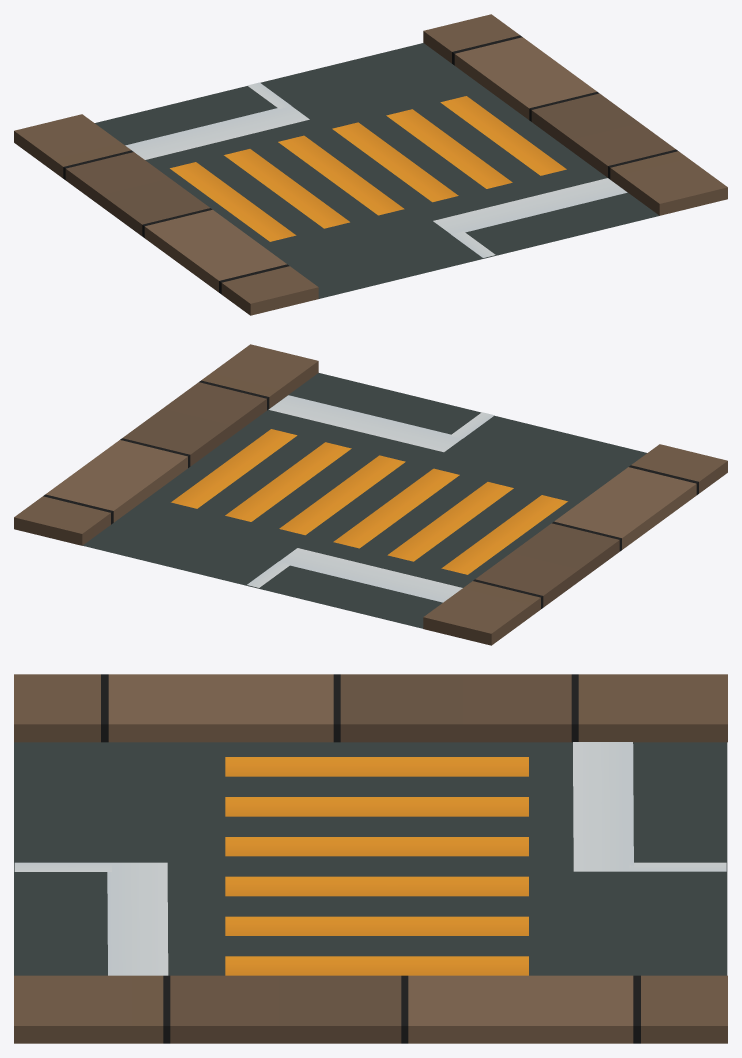
The model's file is Road_1_105.fbx.
3 renders of one model, top to bottom at view 1: azimuth 30°, elevation 25°; view 2: azimuth 150°, elevation 25°; view 3: azimuth 270°, elevation 25°, orthographic. The views are drawn at different scales.
Visible parts, largest first — view 1: Road_1_105; view 2: Road_1_105; view 3: Road_1_105.
Part boxes in pixels (x1=…): Road_1_105: x1=14, y1=14, x2=727, y2=315; Road_1_105: x1=14, y1=344, x2=727, y2=645; Road_1_105: x1=14, y1=674, x2=727, y2=1043.
Size of the model in its own units: 1260 by 30 by 1081.
